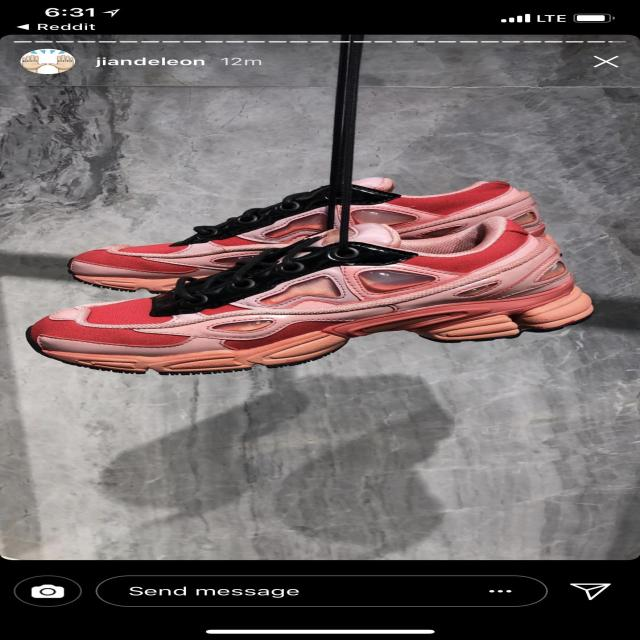shoe: (27, 226, 575, 376), (56, 178, 571, 277)
